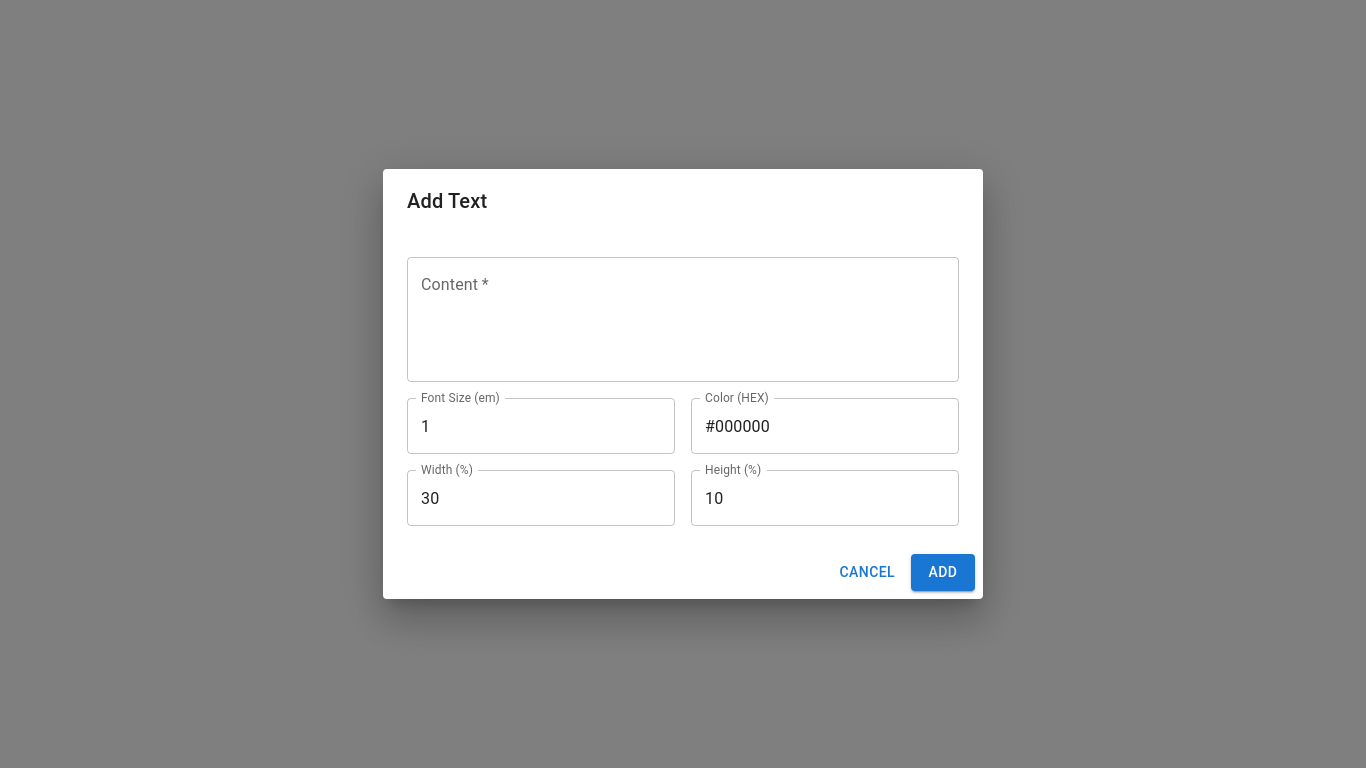
it: AddTextModal Component › displays error when content is empty
Click the button "Add": (943, 573) [911, 554, 975, 591]
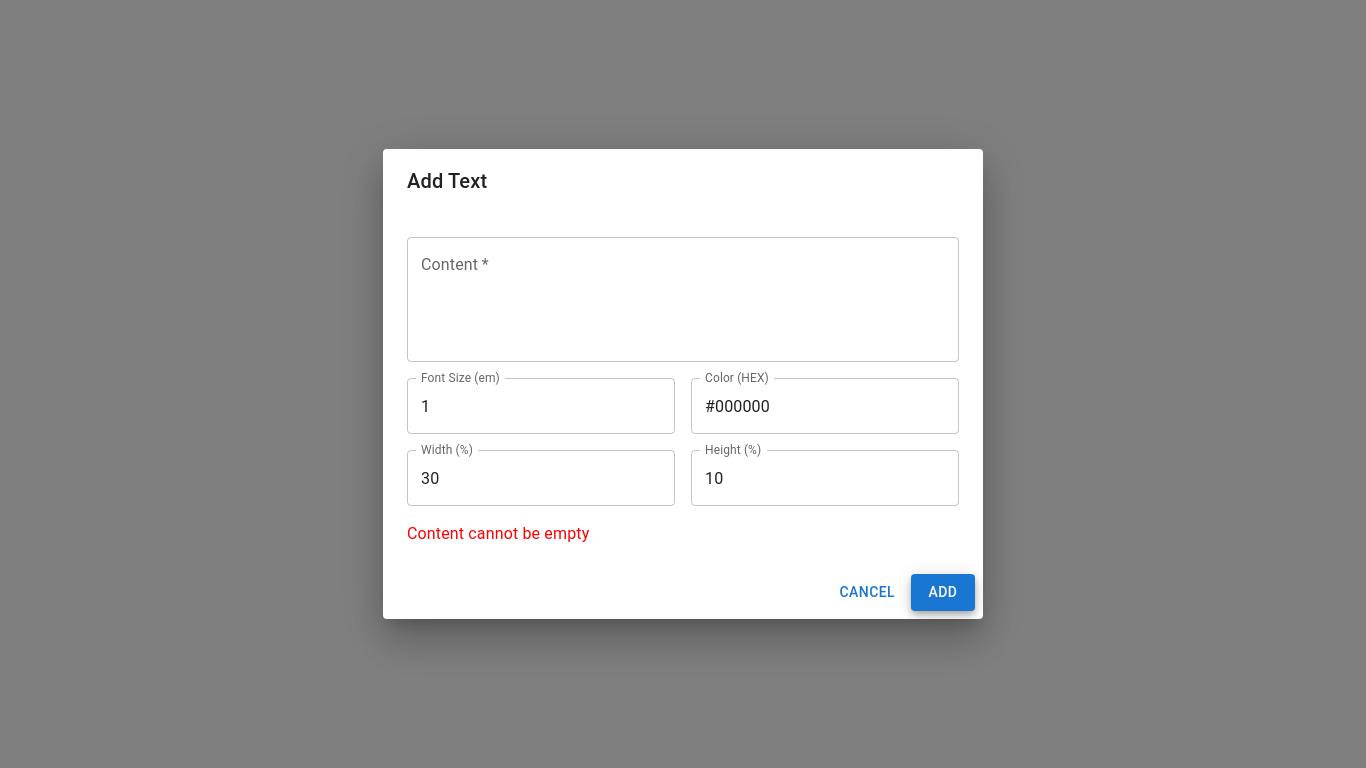
Expected: the text "Content cannot be empty" is shown, [407, 524, 589, 543]
